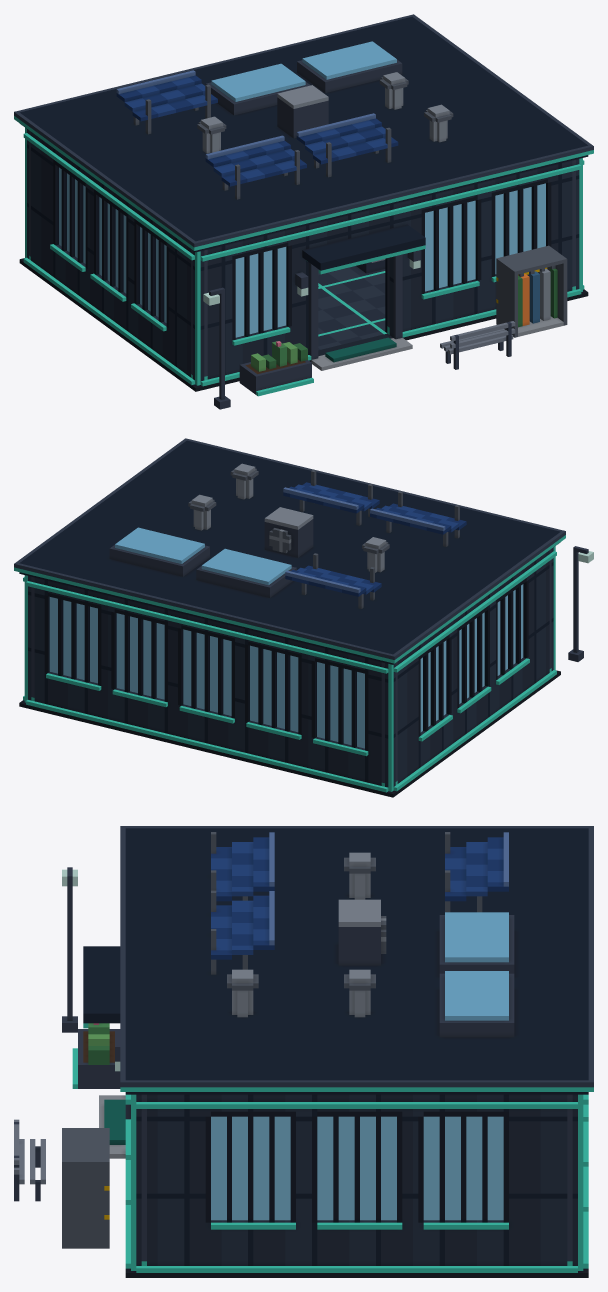
File: lab_e4_l1.glb
The picture shows the model from 3 angles, top to bottom: view 1: azimuth 30°, elevation 25°; view 2: azimuth 150°, elevation 25°; view 3: azimuth 270°, elevation 25°; orthographic projection. The views are drawn at different scales.
Visible parts, largest first — view 1: CutRoof, CutPZ, Base, CutNX, CutNZ; view 2: CutRoof, CutNZ, Base, CutNX, CutPZ; view 3: CutRoof, CutPX, Base, CutPZ, CutNZ.
Boxes of the visible parts, x1=… form: CutRoof: x1=14, y1=14, x2=593, y2=252; CutPZ: x1=191, y1=158, x2=582, y2=352; Base: x1=19, y1=227, x2=588, y2=409; CutNX: x1=23, y1=132, x2=194, y2=347; CutNZ: x1=25, y1=128, x2=30, y2=230; CutRoof: x1=14, y1=438, x2=565, y2=664; CutNZ: x1=24, y1=575, x2=397, y2=760; Base: x1=19, y1=546, x2=593, y2=797; CutNX: x1=393, y1=550, x2=556, y2=755; CutPZ: x1=549, y1=546, x2=555, y2=644; CutRoof: x1=120, y1=826, x2=593, y2=1094; CutPX: x1=136, y1=1094, x2=577, y2=1229; Base: x1=14, y1=867, x2=588, y2=1277; CutPZ: x1=83, y1=946, x2=146, y2=1227; CutNZ: x1=567, y1=1094, x2=588, y2=1227.
Size of the model in its own units: 11.6 by 5 by 10.9.
